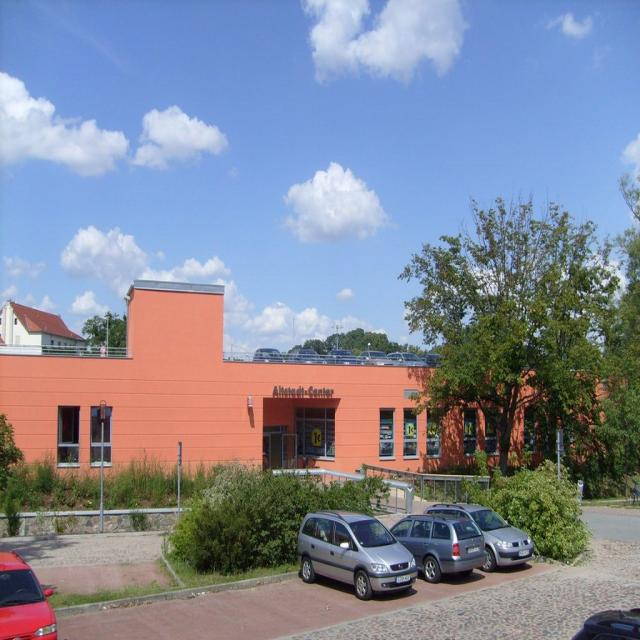other: (298, 506, 418, 604), (387, 506, 486, 580), (426, 501, 528, 567), (0, 550, 59, 640), (570, 610, 638, 640)
